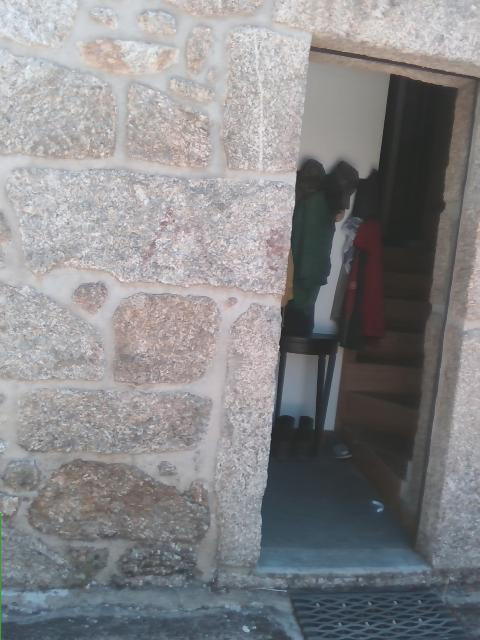open_door: (256, 31, 479, 570)
